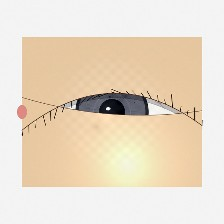pinguecula_lesion: (21, 94, 71, 133)
